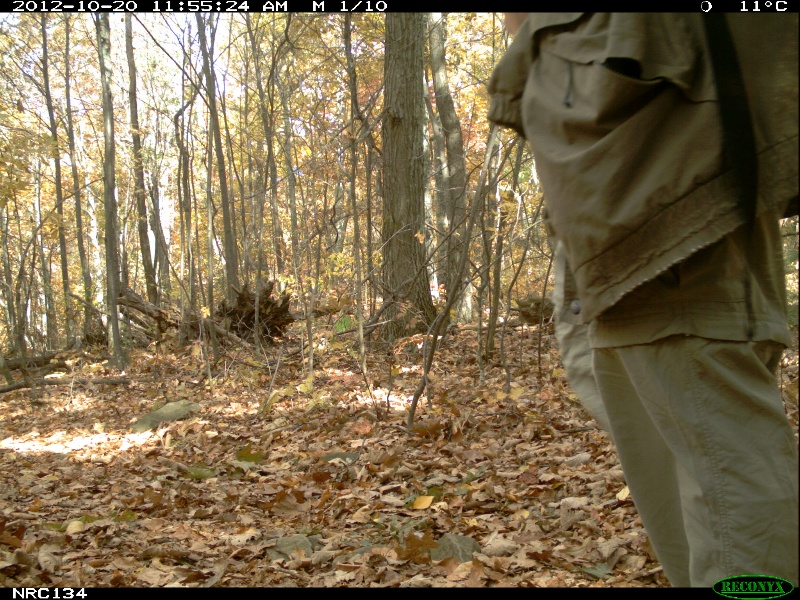human legs: (505, 24, 796, 575)
